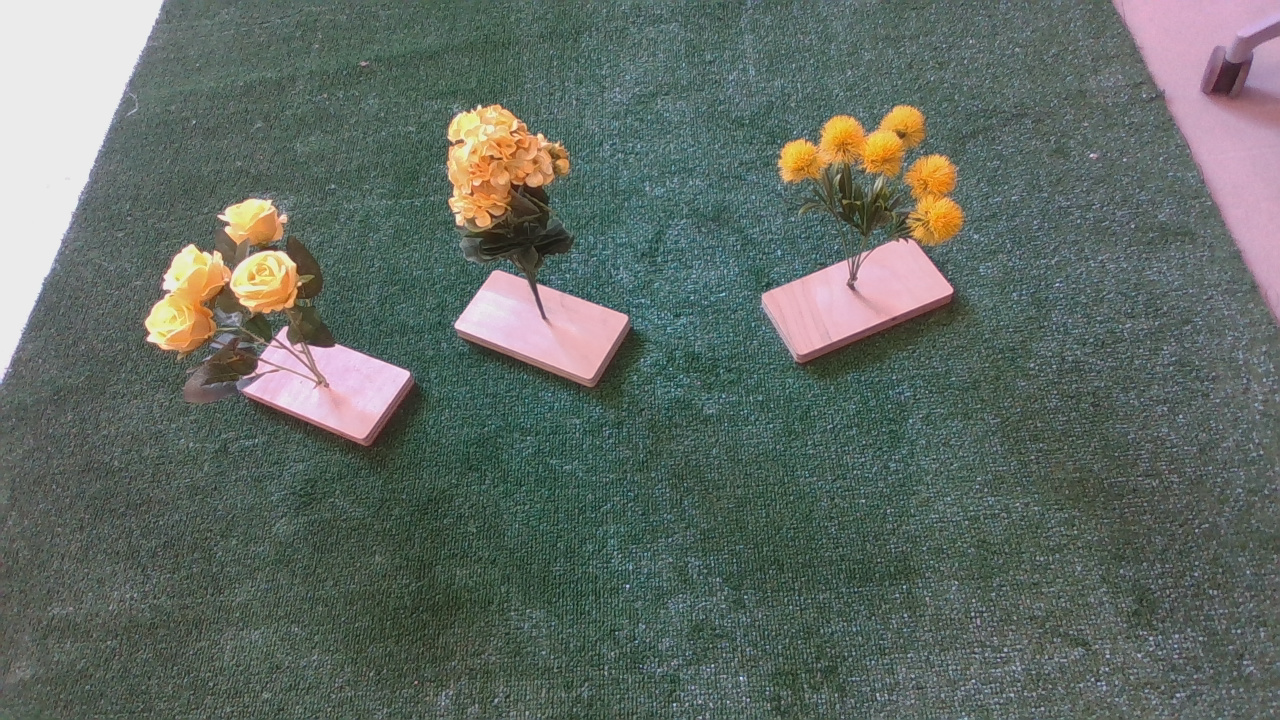dandelion: (766, 102, 979, 258)
geranium: (434, 104, 592, 297)
rose: (138, 194, 348, 402)
